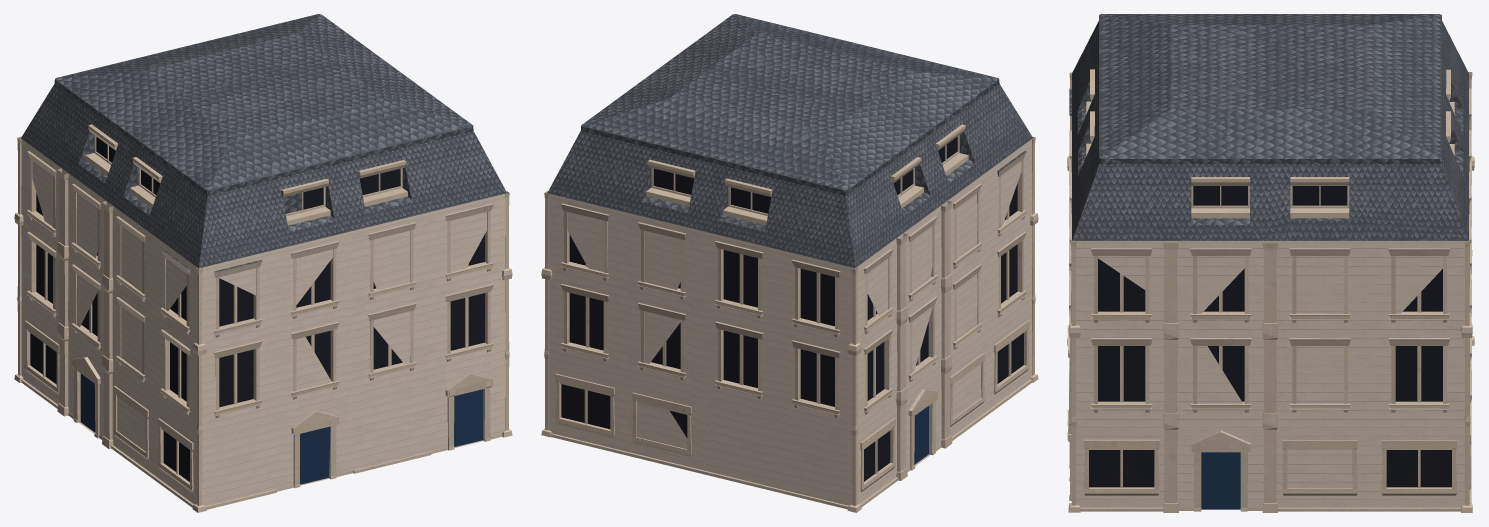
Rendered from TESTHAUSMANN1LOD1.fbx.
The picture shows the model from 3 angles, left to right: view 1: azimuth 30°, elevation 25°; view 2: azimuth 150°, elevation 25°; view 3: azimuth 270°, elevation 25°; orthographic projection. The views are drawn at different scales.
Parts seen in each view (by area): view 1: Hausmann1_RETOPO_LOD1; view 2: Hausmann1_RETOPO_LOD1; view 3: Hausmann1_RETOPO_LOD1.
Boxes of the visible parts, bbox=[...] form: Hausmann1_RETOPO_LOD1: bbox=[14, 14, 512, 512]; Hausmann1_RETOPO_LOD1: bbox=[541, 14, 1038, 512]; Hausmann1_RETOPO_LOD1: bbox=[1067, 14, 1474, 512].
Bounding box in the file's own units: 1235 × 1201 × 1232.
